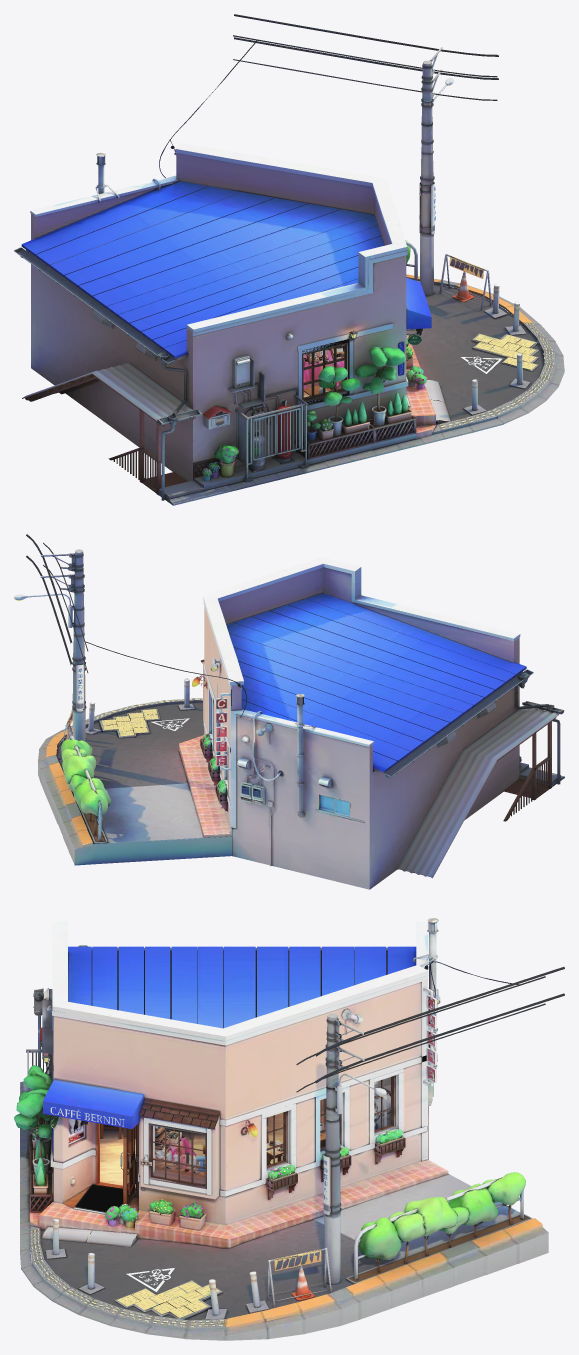
File: cafe-transformed.glb
The picture shows the model from 3 angles, top to bottom: view 1: azimuth 30°, elevation 25°; view 2: azimuth 150°, elevation 25°; view 3: azimuth 270°, elevation 25°; orthographic projection. The views are drawn at different scales.
Visible parts, largest first — view 1: Outside_Outside_0, Inside_Inside_0, Outside_Glass_0; view 2: Outside_Outside_0; view 3: Outside_Outside_0, Inside_Inside_0, Outside_Glass_0, Stuff_Stuff_0.
Part boxes in pixels (left/top/right/bottom): Outside_Outside_0: left=14, top=14, right=564, bottom=505; Inside_Inside_0: left=303, top=345, right=344, bottom=397; Outside_Glass_0: left=304, top=346, right=344, bottom=397; Outside_Outside_0: left=14, top=534, right=564, bottom=889; Outside_Outside_0: left=14, top=918, right=564, bottom=1340; Inside_Inside_0: left=100, top=1077, right=390, bottom=1187; Outside_Glass_0: left=153, top=1077, right=391, bottom=1184; Stuff_Stuff_0: left=100, top=1124, right=325, bottom=1171.
Size of the model in its own units: 11698 by 6026 by 10474.
Materials: 7 (5 with a texture image).
